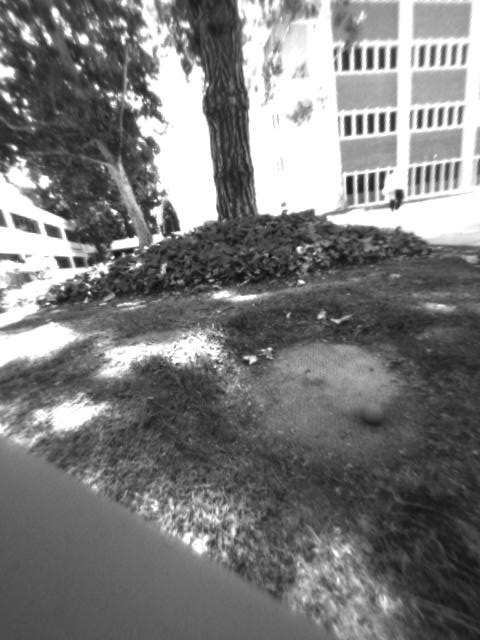dogtoy: (351, 392, 393, 430)
